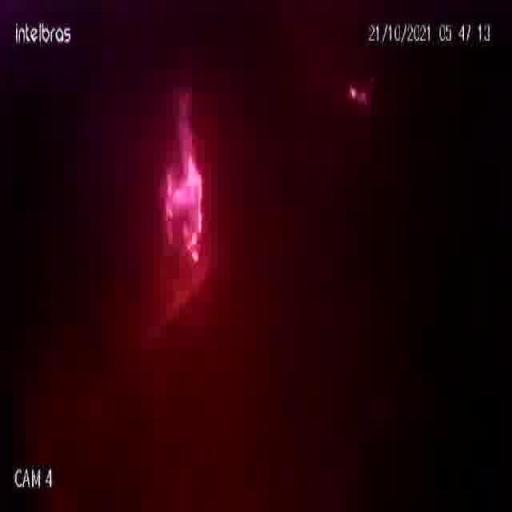smoke: (121, 76, 240, 316)
